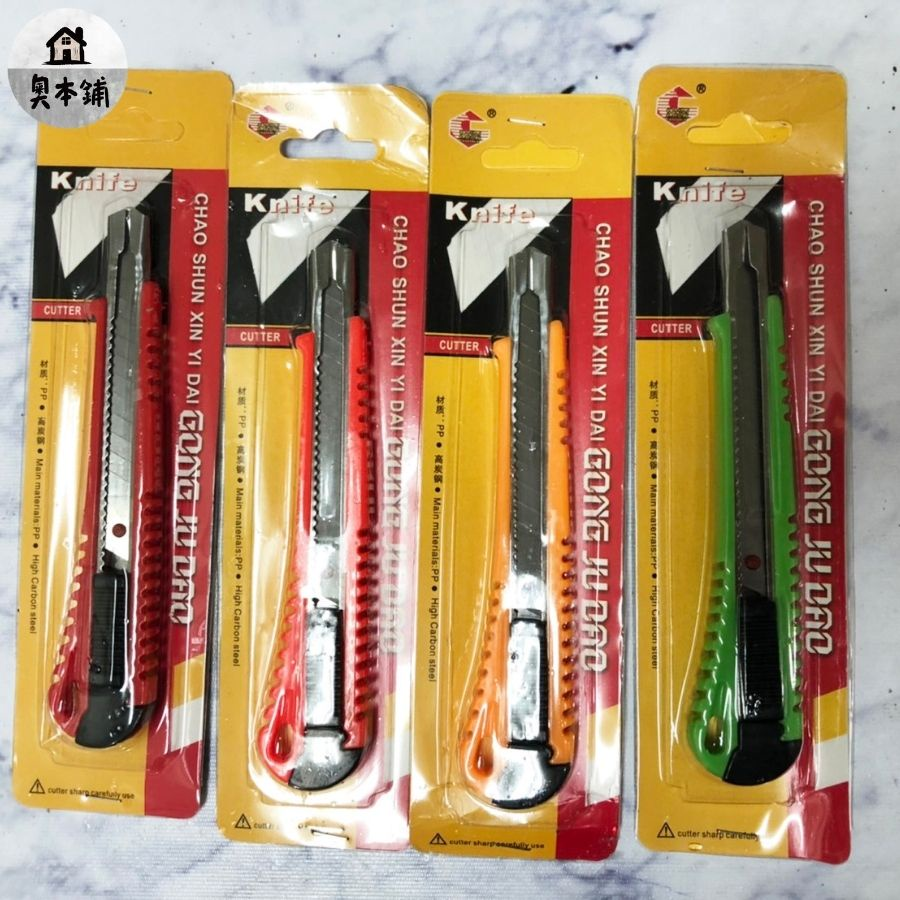cutter: (456, 246, 580, 810), (44, 207, 170, 750), (688, 214, 807, 787), (256, 238, 379, 790)
